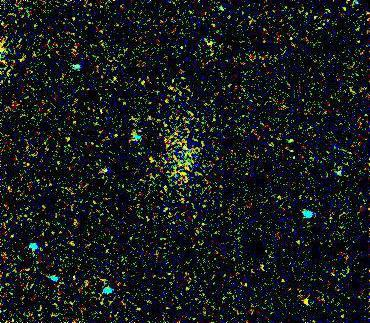star: (291, 287, 321, 317)
